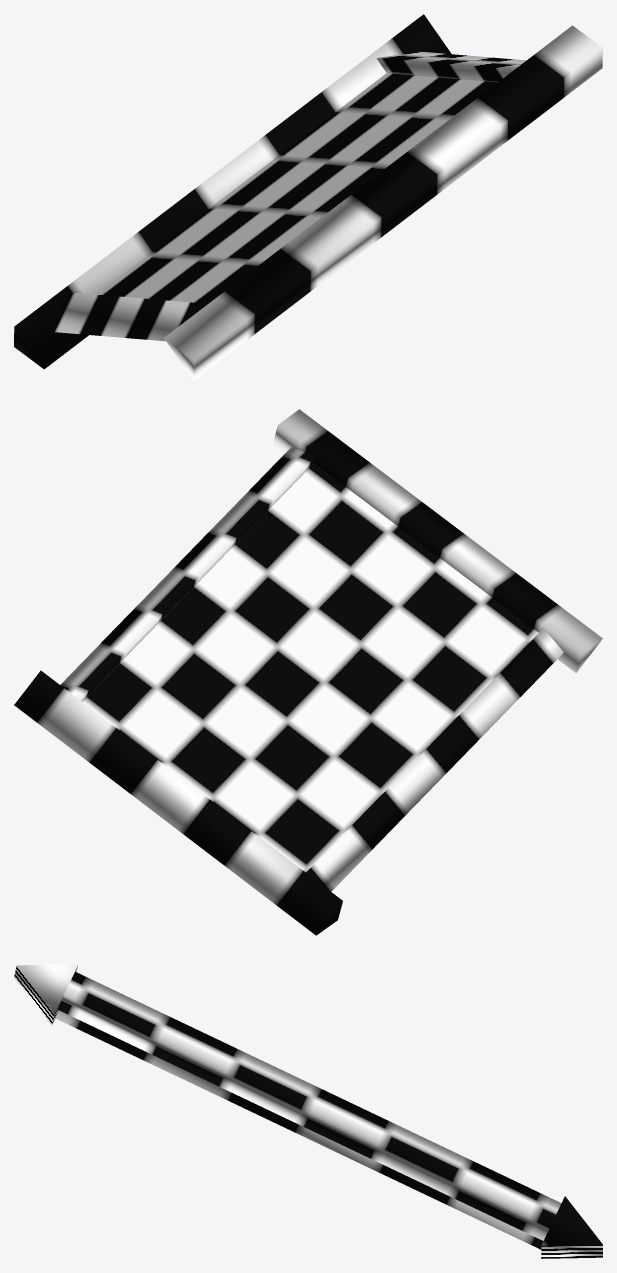
The model's file is initqu18.dae.
The picture shows the model from 3 angles, top to bottom: view 1: azimuth 30°, elevation 25°; view 2: azimuth 150°, elevation 25°; view 3: azimuth 270°, elevation 25°; orthographic projection. The views are drawn at different scales.
Parts seen in each view (by area): view 1: item; view 2: item; view 3: item.
Boxes of the visible parts, box(x1,y1,x2,y2) form: item: box(14, 14, 602, 380); item: box(14, 409, 602, 935); item: box(14, 964, 602, 1258).
Bounding box in the file's own units: 1.77 × 1.69 × 1.42.
1 material, 1 textured.
